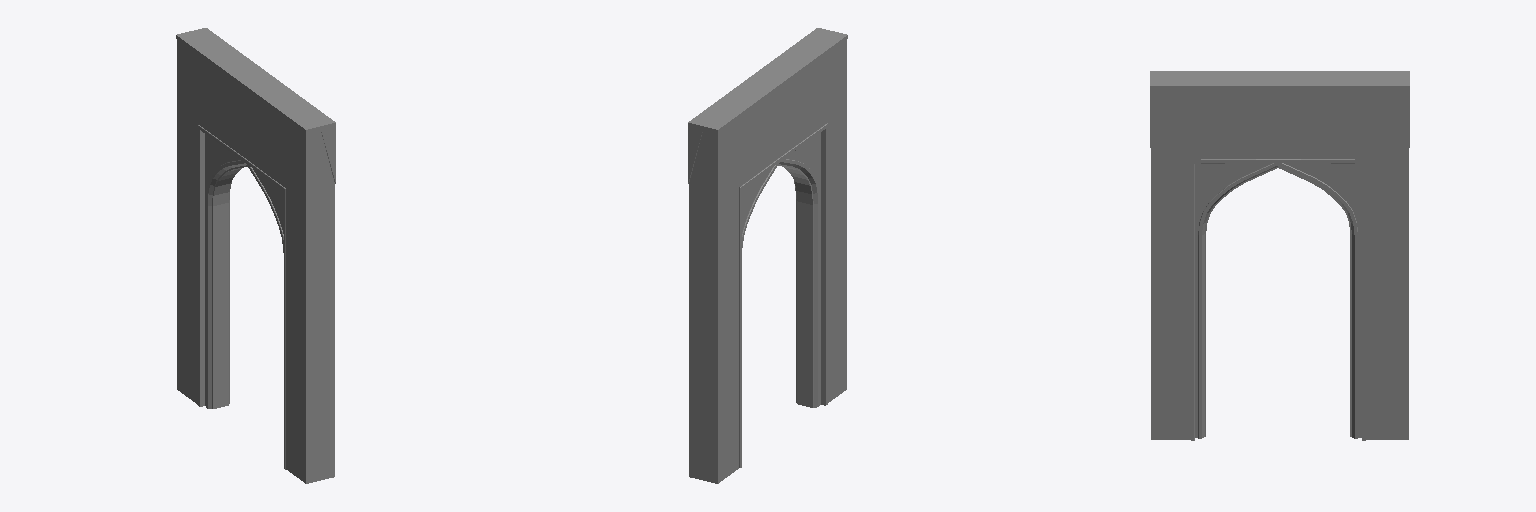
The model's file is Door.obj.
The picture shows the model from 3 angles: view 1: azimuth 30°, elevation 25°; view 2: azimuth 150°, elevation 25°; view 3: azimuth 270°, elevation 25°; orthographic projection.
Parts seen in each view (by area): view 1: SM_Door SM_Arena5thBlockout1; view 2: SM_Door SM_Arena5thBlockout1; view 3: SM_Door SM_Arena5thBlockout1.
Part boxes in pixels (bbox=[...]): SM_Door SM_Arena5thBlockout1: bbox=[176, 28, 335, 483]; SM_Door SM_Arena5thBlockout1: bbox=[688, 28, 847, 483]; SM_Door SM_Arena5thBlockout1: bbox=[1150, 71, 1409, 440].
Bounding box in the file's own units: 50.55 × 560 × 372.